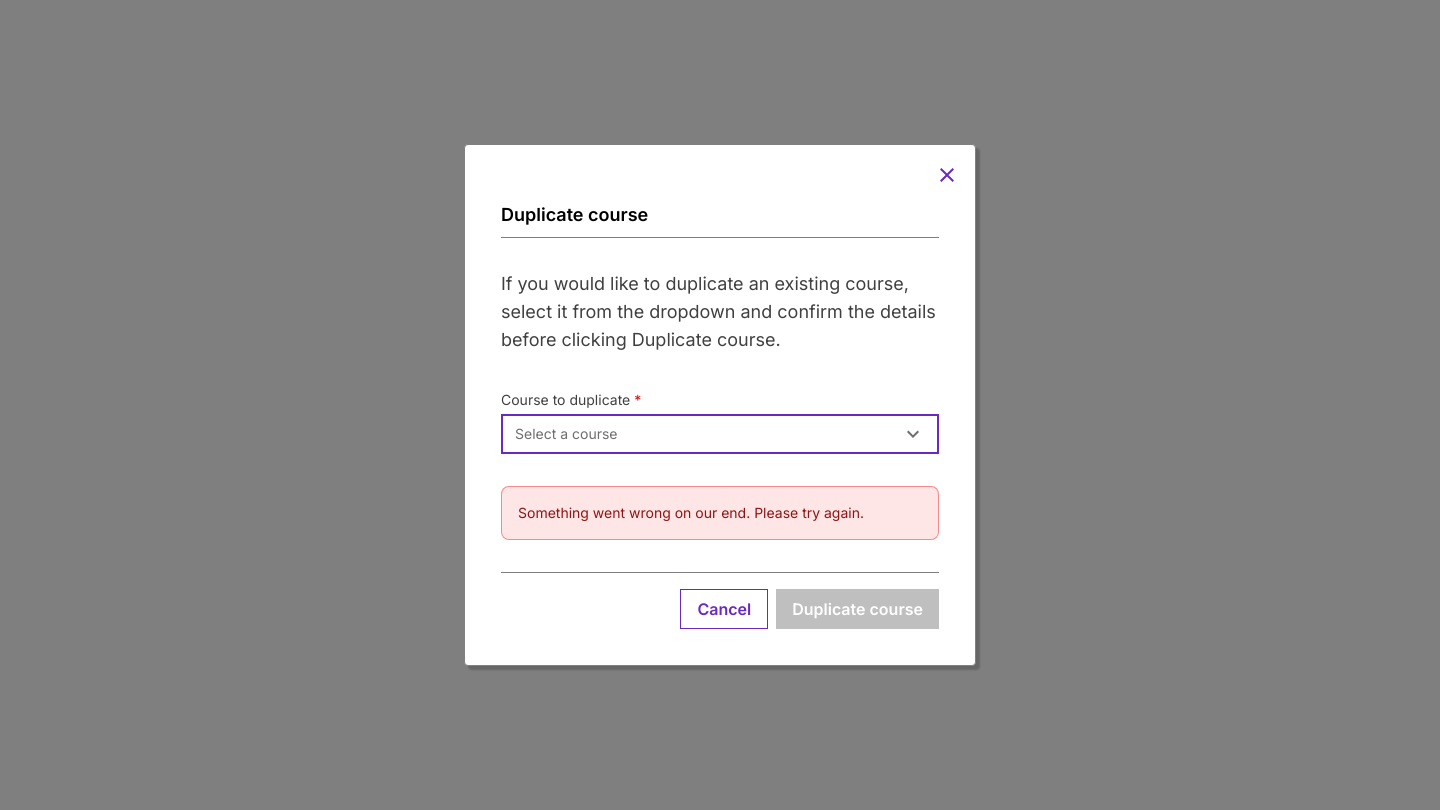
DuplicateCourse › shows an inline error when duplication fails, keeping the form
This screenshot has width=1440, height=810.
Click the dropdown named "Course to duplicate". click: x=566, y=434
box: x1=501 y1=414 x2=939 y2=454
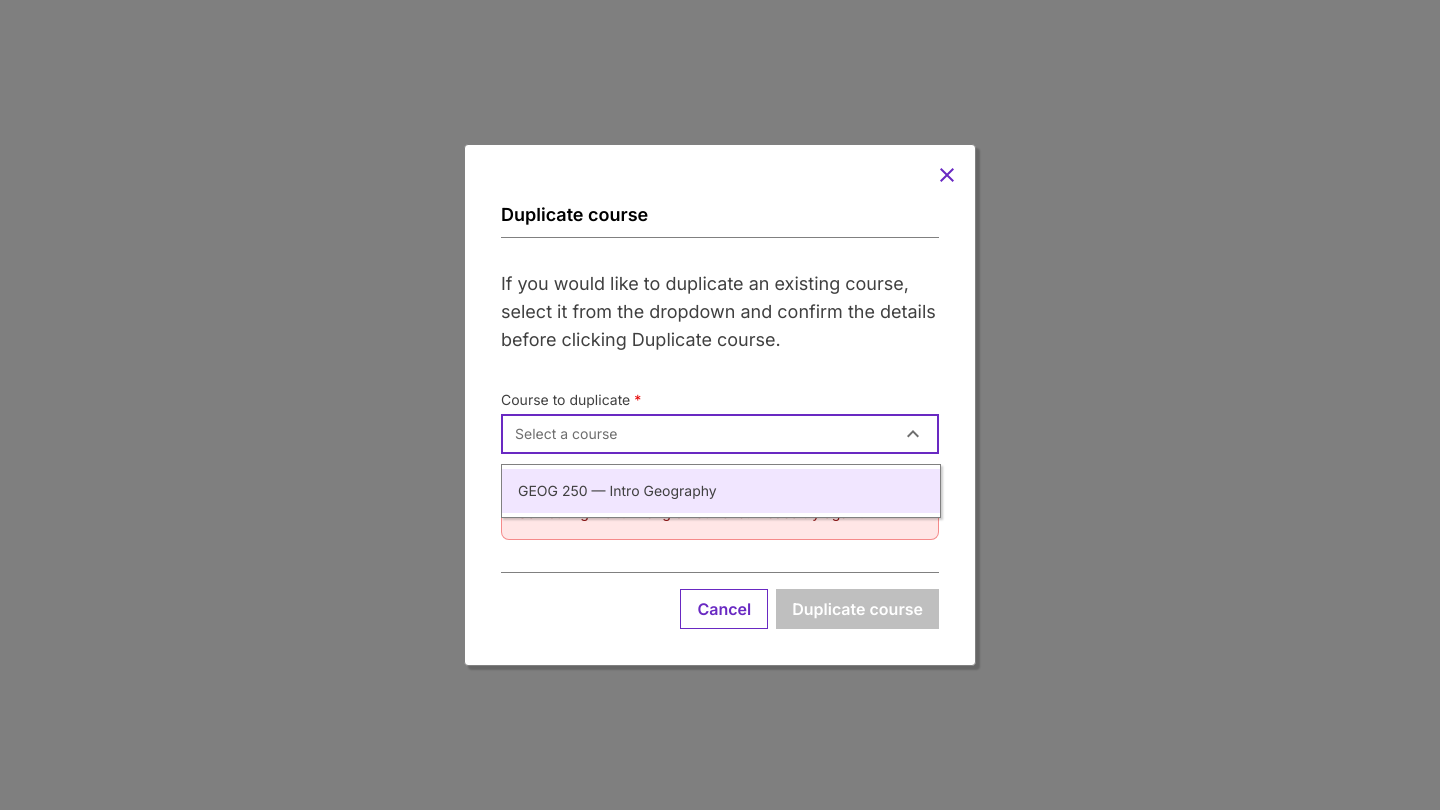
Click the option "GEOG 250 — Intro Geography". click: x=617, y=490
box: x1=502 y1=469 x2=940 y2=513
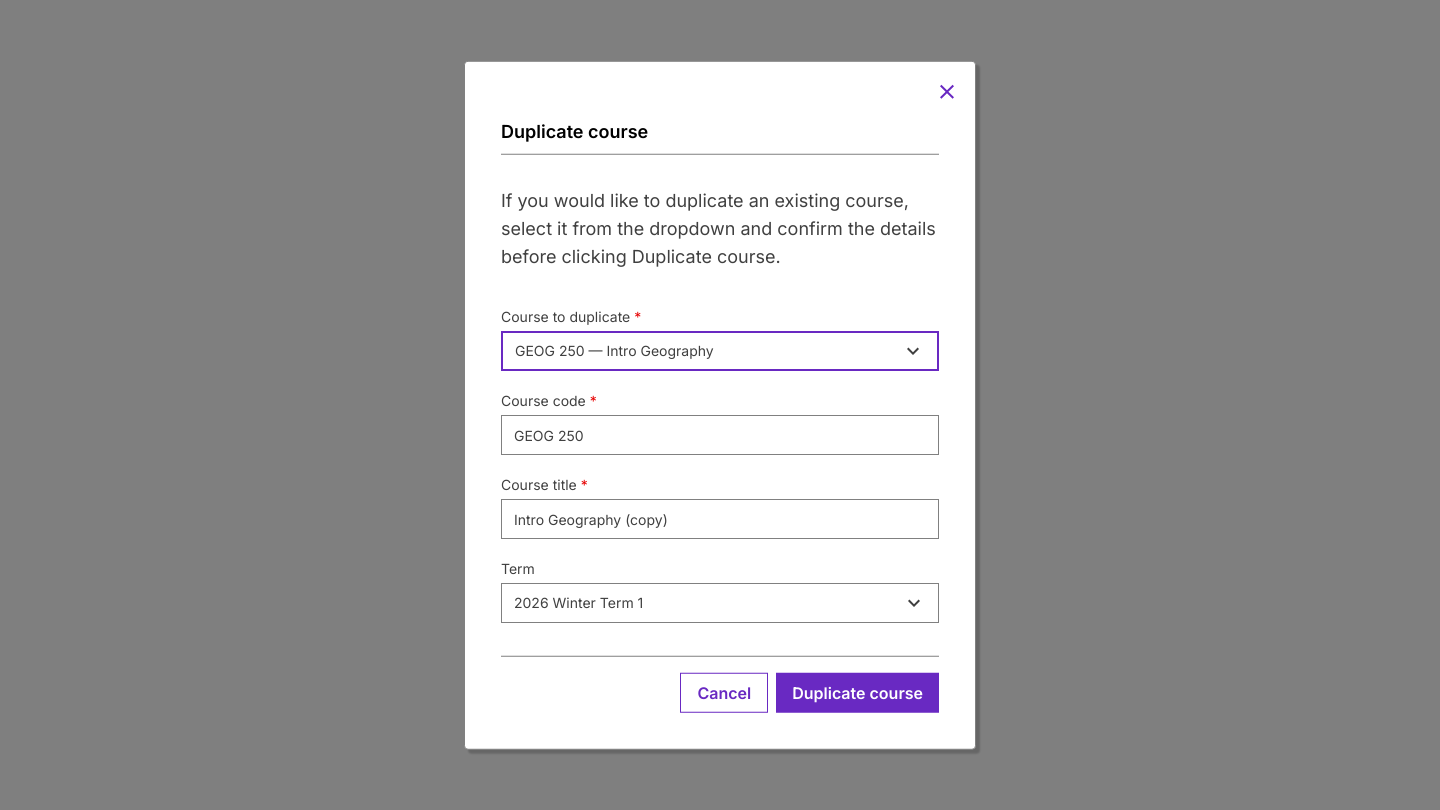
Expected: the field labelled "Course title *" holds "Intro Geography (copy)", x1=501 y1=499 x2=939 y2=539
